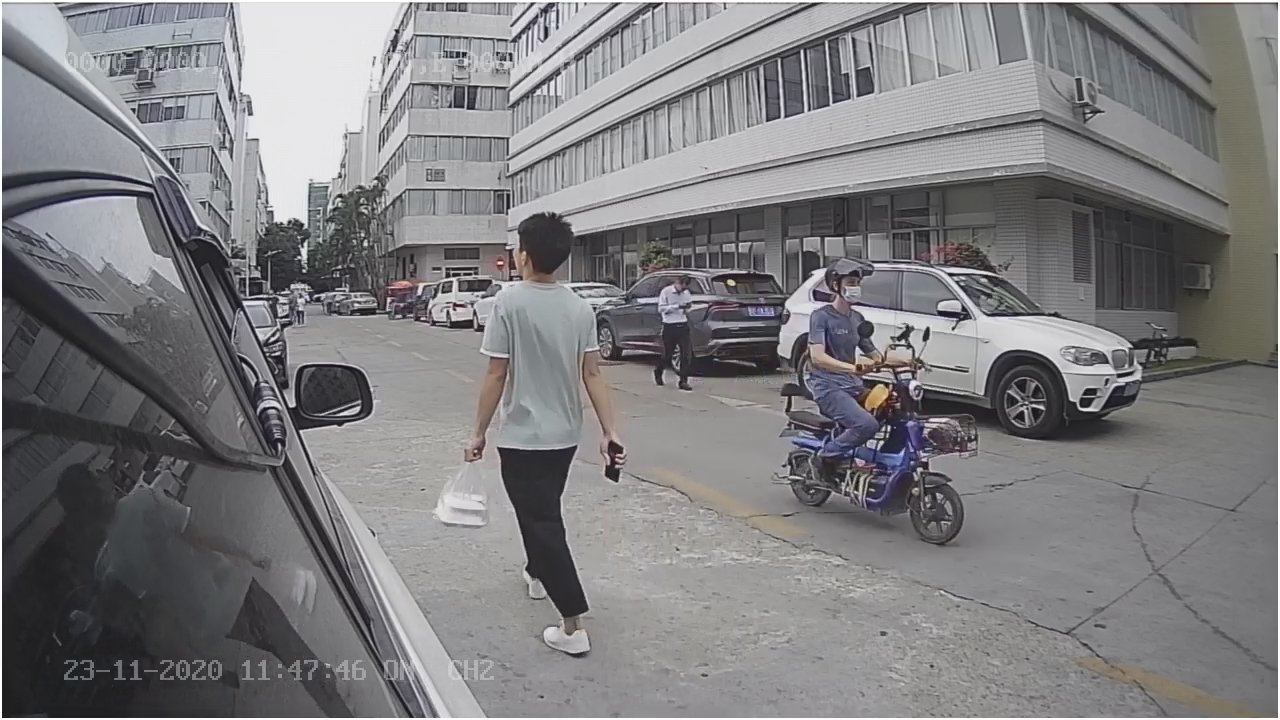person: (461, 204, 621, 652), (799, 254, 908, 375)
